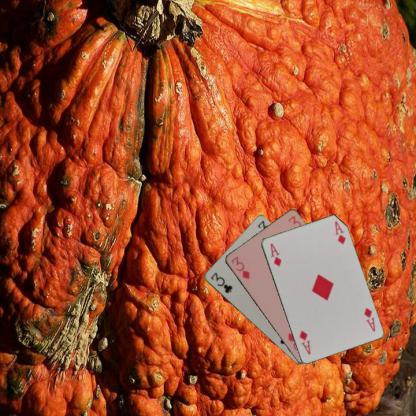3c: (208, 270, 233, 294)
3d: (228, 254, 251, 280)
Ad: (361, 305, 376, 333), (268, 240, 282, 268)
